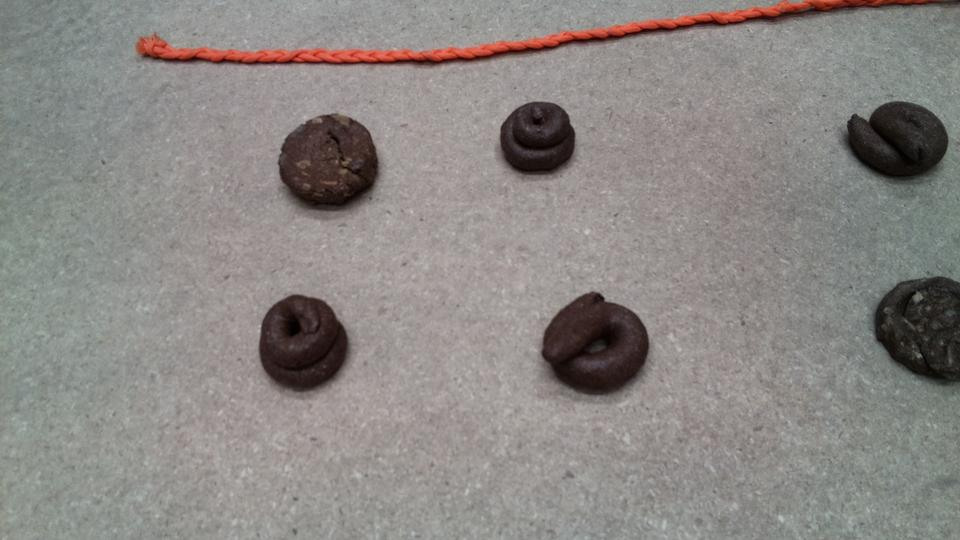poop: (131, 1, 875, 67), (538, 289, 653, 399), (274, 110, 382, 211), (870, 273, 960, 387), (841, 96, 953, 184), (255, 291, 352, 392), (496, 99, 580, 178)
